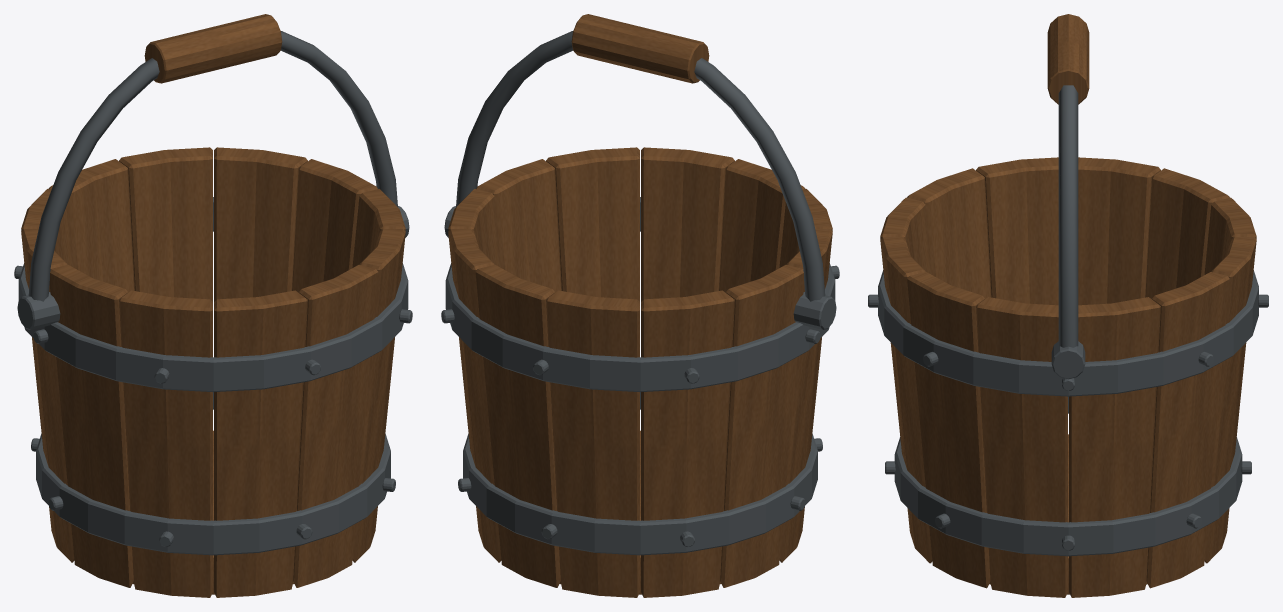
The model's file is wooden-water-bucket.glb.
The picture shows the model from 3 angles, left to right: view 1: azimuth 30°, elevation 25°; view 2: azimuth 150°, elevation 25°; view 3: azimuth 270°, elevation 25°; orthographic projection. The views are drawn at different scales.
Parts seen in each view (by area): view 1: Water bucket stave 08, Water bucket stave 09, Water bucket stave 10, Water bucket stave 07, Forged retaining hoop.001, Forged retaining hoop, Water bucket stave 02, Water bucket stave 03, Curved iron bail, Water bucket stave 01, Water bucket stave 04, Water bucket stave 11 (+5 smaller); view 2: Water bucket stave 04, Water bucket stave 05, Water bucket stave 03, Water bucket stave 06, Forged retaining hoop.001, Forged retaining hoop, Water bucket stave 10, Water bucket stave 11, Curved iron bail, Water bucket stave 12, Water bucket stave 09, Water bucket stave 02 (+5 smaller); view 3: Water bucket stave 01, Water bucket stave 12, Water bucket stave 02, Water bucket stave 11, Forged retaining hoop.001, Forged retaining hoop, Water bucket stave 06, Water bucket stave 07, Water bucket stave 05, Water bucket stave 08, Water bucket stave 03, Water bucket stave 10 (+5 smaller).
Boxes of the visible parts, x1,y1,x2,y2 form: Water bucket stave 08: (119, 290, 212, 597); Water bucket stave 09: (214, 290, 307, 597); Water bucket stave 10: (293, 265, 378, 587); Water bucket stave 07: (49, 265, 133, 587); Forged retaining hoop.001: (18, 197, 408, 392); Forged retaining hoop: (36, 392, 390, 555); Water bucket stave 02: (214, 147, 307, 301); Water bucket stave 03: (119, 147, 212, 301); Curved iron bail: (28, 31, 397, 301); Water bucket stave 01: (292, 159, 377, 292); Water bucket stave 04: (48, 159, 134, 292); Water bucket stave 11: (352, 229, 405, 562); Water bucket stave 04: (546, 290, 639, 597); Water bucket stave 05: (641, 290, 734, 597); Water bucket stave 03: (475, 265, 560, 587); Water bucket stave 06: (720, 265, 804, 587); Forged retaining hoop.001: (445, 197, 835, 392); Forged retaining hoop: (463, 392, 817, 555); Water bucket stave 10: (641, 147, 734, 301); Water bucket stave 11: (546, 147, 639, 301); Curved iron bail: (456, 31, 825, 301); Water bucket stave 12: (476, 159, 561, 292); Water bucket stave 09: (719, 159, 805, 292); Water bucket stave 02: (448, 229, 501, 562); Water bucket stave 01: (1069, 297, 1160, 597); Water bucket stave 12: (976, 297, 1067, 597); Water bucket stave 02: (1146, 272, 1229, 588); Water bucket stave 11: (907, 272, 990, 588); Forged retaining hoop.001: (878, 270, 1258, 396); Forged retaining hoop: (894, 396, 1242, 556); Water bucket stave 06: (1078, 157, 1160, 305); Water bucket stave 07: (976, 157, 1058, 305); Water bucket stave 05: (1145, 168, 1229, 298); Water bucket stave 08: (907, 168, 991, 298); Water bucket stave 03: (1204, 237, 1256, 563); Water bucket stave 10: (880, 237, 932, 563).
Size of the model in its own units: 0.304 by 0.388 by 0.2865.
Materials: 4 (3 with a texture image).
